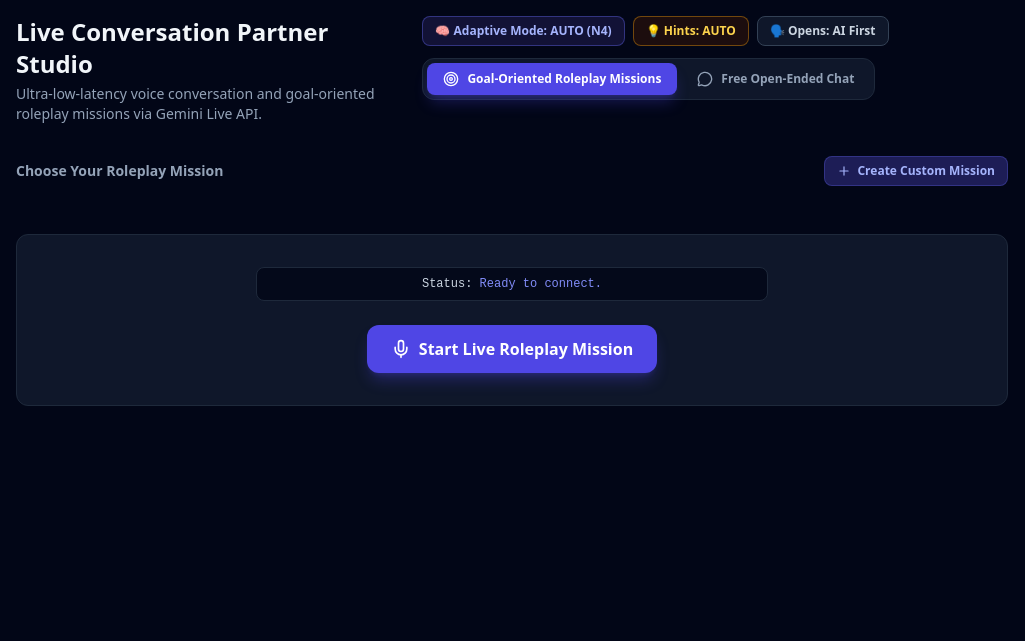
Test: LivePartnerView › renders persona selectors and conversation controls
Click the button "Free Open-Ended Chat". click: (776, 79)
box: [681, 63, 870, 95]
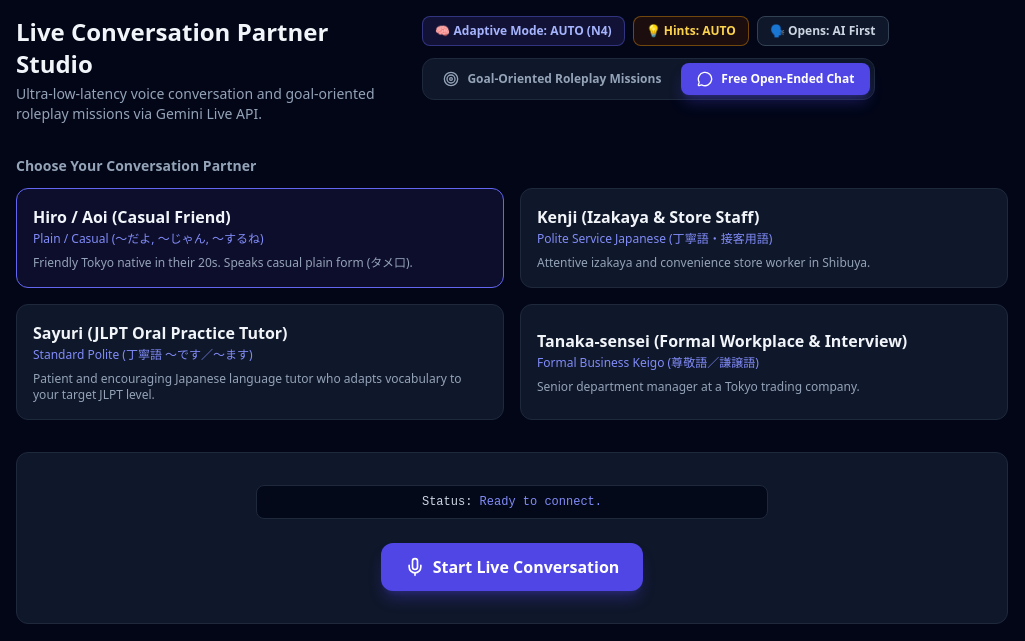
Now the heading "Choose Your Conversation Partner" is shown, box [16, 156, 256, 175]
Now the button "Start Live Conversation" is shown, box [381, 543, 643, 591]
